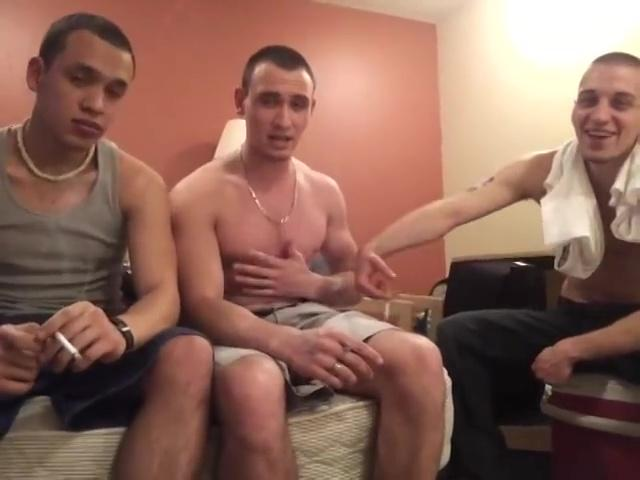cigarette: (52, 329, 85, 359)
